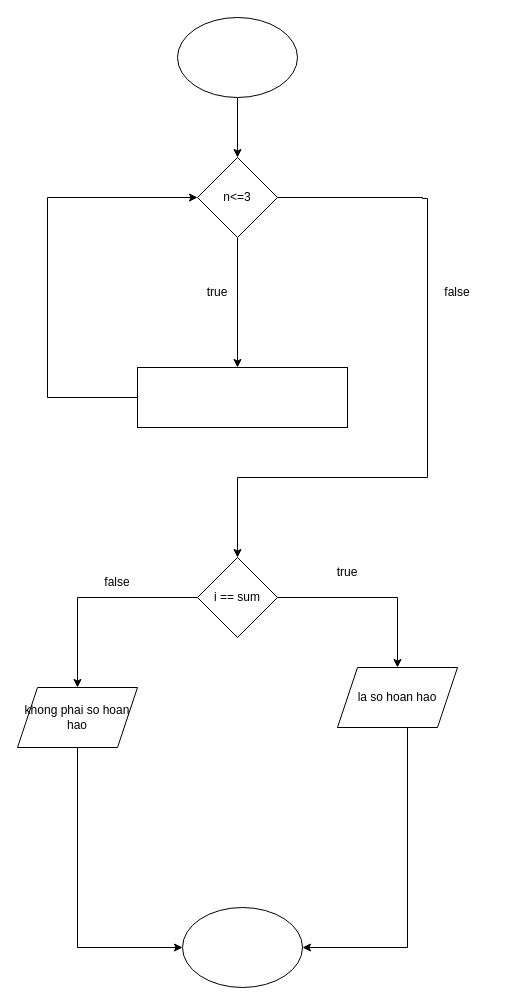
This 505x1005 diagram has some shape labels left out. Each missing label, with the box of its shape:
start: (176, 16, 298, 98)
temp = n%10 sum += temp*temp*temp n = n/10: (136, 366, 348, 428)
